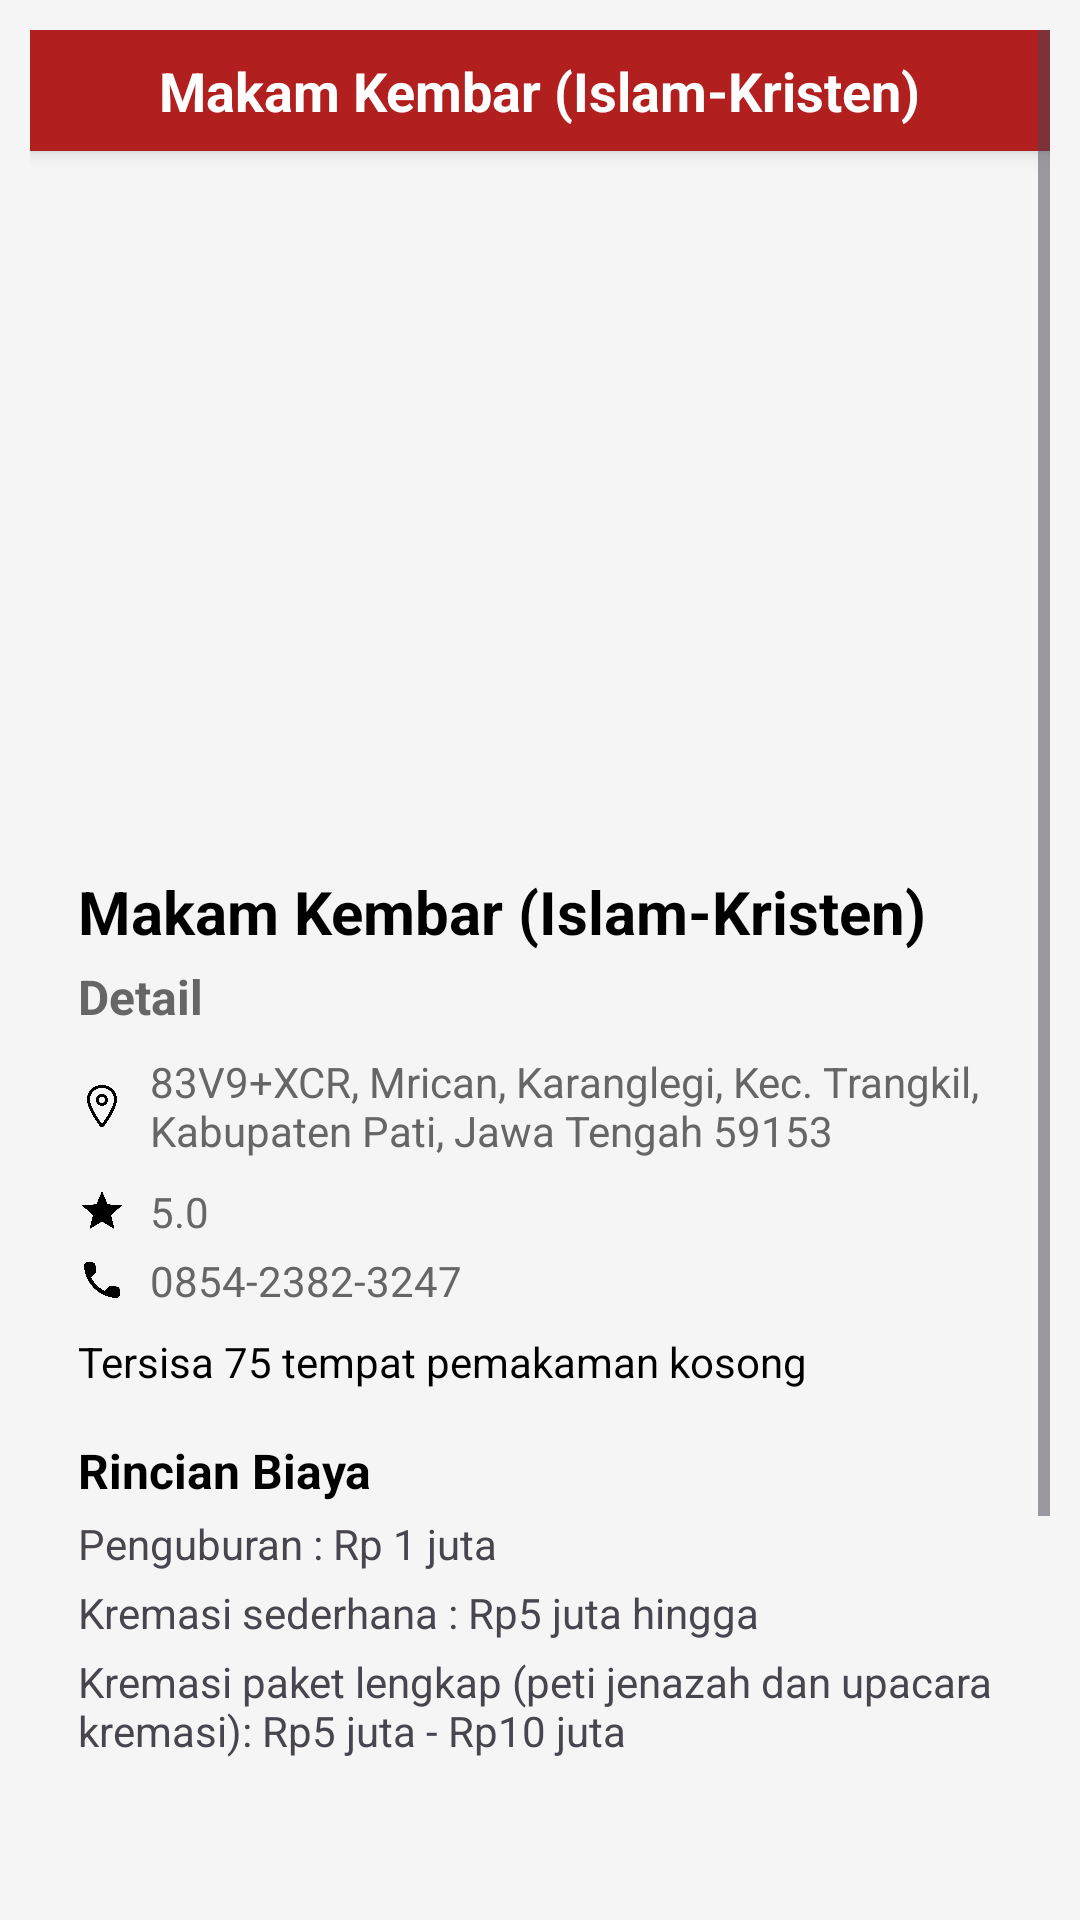

Named icons in this screenshot (1080*1920) and their bounding boxes, {"x1": x1, "y1": y1, "x2": x2, "y2": y2}:
iclocation: {"x1": 87, "y1": 1085, "x2": 117, "y2": 1127}
icphone: {"x1": 84, "y1": 1262, "x2": 120, "y2": 1298}
icstar: {"x1": 82, "y1": 1192, "x2": 122, "y2": 1229}
